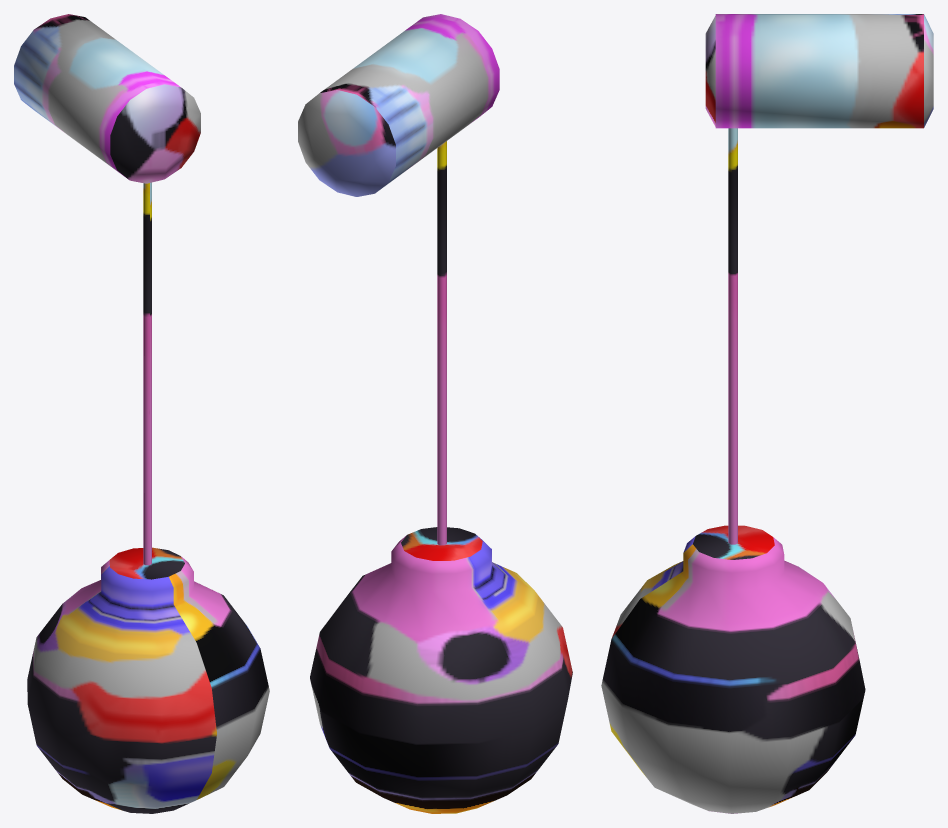
File: dif4.2.fbx
3 views of the same model, side by side, from view 1: azimuth 30°, elevation 25°; view 2: azimuth 150°, elevation 25°; view 3: azimuth 270°, elevation 25° (orthographic). The views are drawn at different scales.
Visible parts, largest first — view 1: Circle.007; view 2: Circle.007; view 3: Circle.007.
Part boxes in pixels (x1,y1,x2,y2): Circle.007: (14, 14, 269, 813); Circle.007: (298, 14, 572, 813); Circle.007: (601, 14, 933, 813).
Size of the model in its own units: 382 by 1253 by 482.
